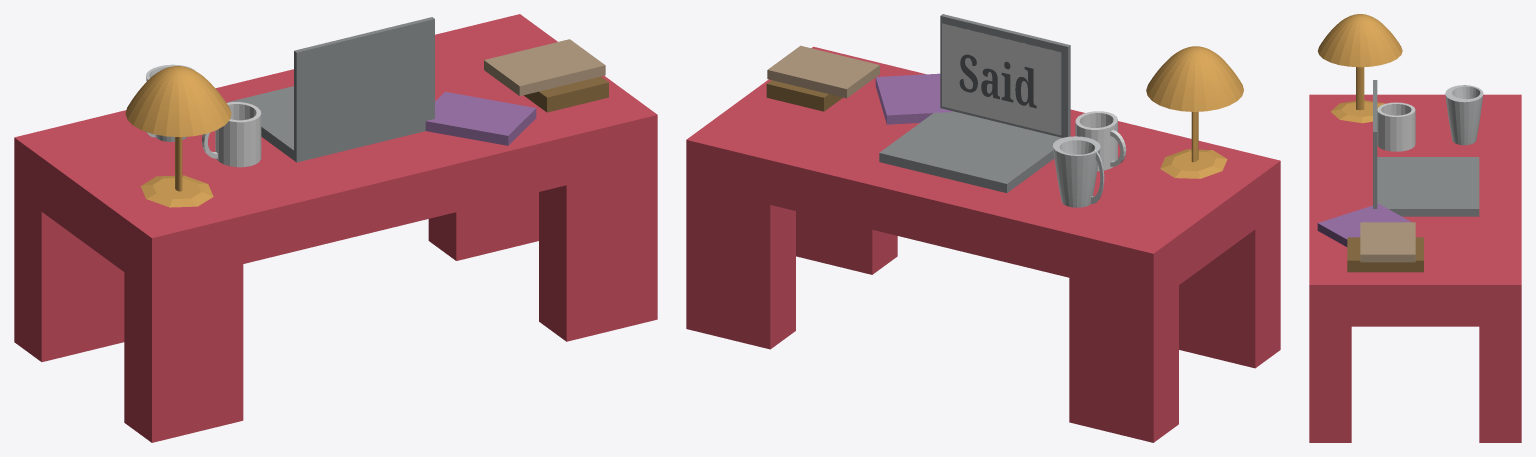
The model's file is Saids Desk(c149).glb.
The picture shows the model from 3 angles, left to right: view 1: azimuth 30°, elevation 25°; view 2: azimuth 150°, elevation 25°; view 3: azimuth 270°, elevation 25°; orthographic projection. The views are drawn at different scales.
Parts seen in each view (by area): view 1: Mesh_Mesh_head_geo.001_lambert2SG.001; view 2: Mesh_Mesh_head_geo.001_lambert2SG.001; view 3: Mesh_Mesh_head_geo.001_lambert2SG.001.
Part boxes in pixels (x1=…): Mesh_Mesh_head_geo.001_lambert2SG.001: x1=14, y1=14, x2=657, y2=442; Mesh_Mesh_head_geo.001_lambert2SG.001: x1=686, y1=14, x2=1280, y2=442; Mesh_Mesh_head_geo.001_lambert2SG.001: x1=1309, y1=14, x2=1521, y2=442.
Size of the model in its own units: 106 by 67.16 by 50.
